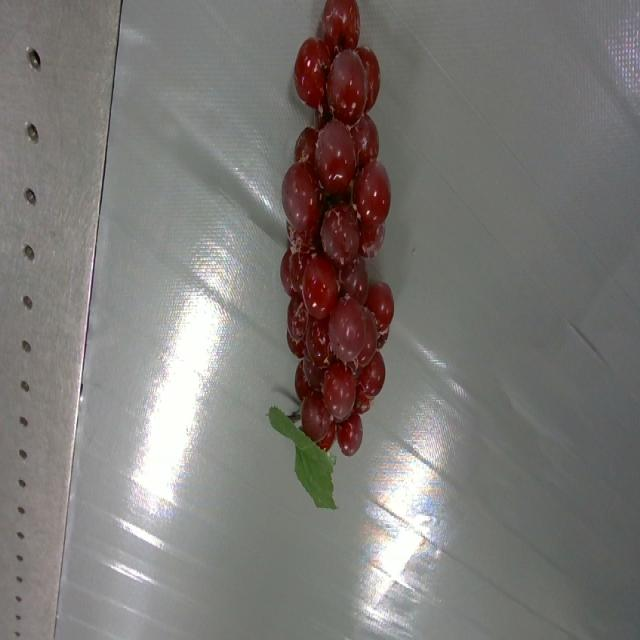grape: (269, 0, 394, 508)
